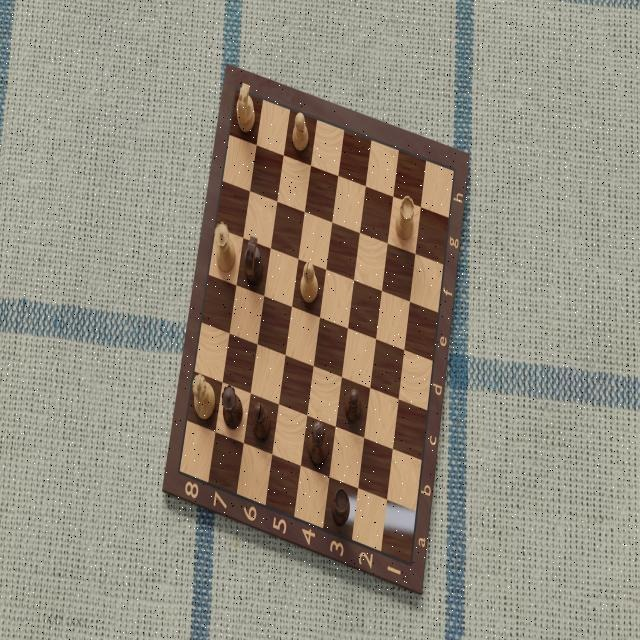black-bishop: (245, 388, 275, 452)
black-king: (304, 411, 330, 473)
black-knight: (238, 231, 269, 293)
black-pawn: (343, 382, 364, 430)
black-queen: (218, 373, 245, 443)
black-rook: (328, 481, 356, 536)
white-bishop: (296, 255, 321, 312)
white-king: (189, 367, 214, 431)
white-knight: (230, 77, 258, 142)
white-pawn: (288, 106, 314, 158)
white-queen: (212, 215, 235, 276)
white-rook: (393, 193, 419, 254)
